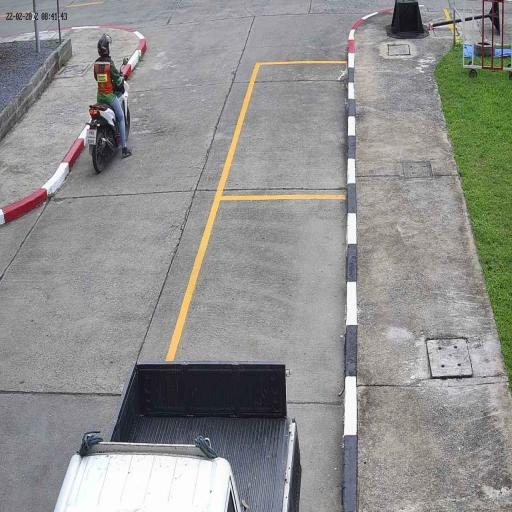car: (52, 359, 304, 512)
motorcycle: (86, 91, 132, 177)
